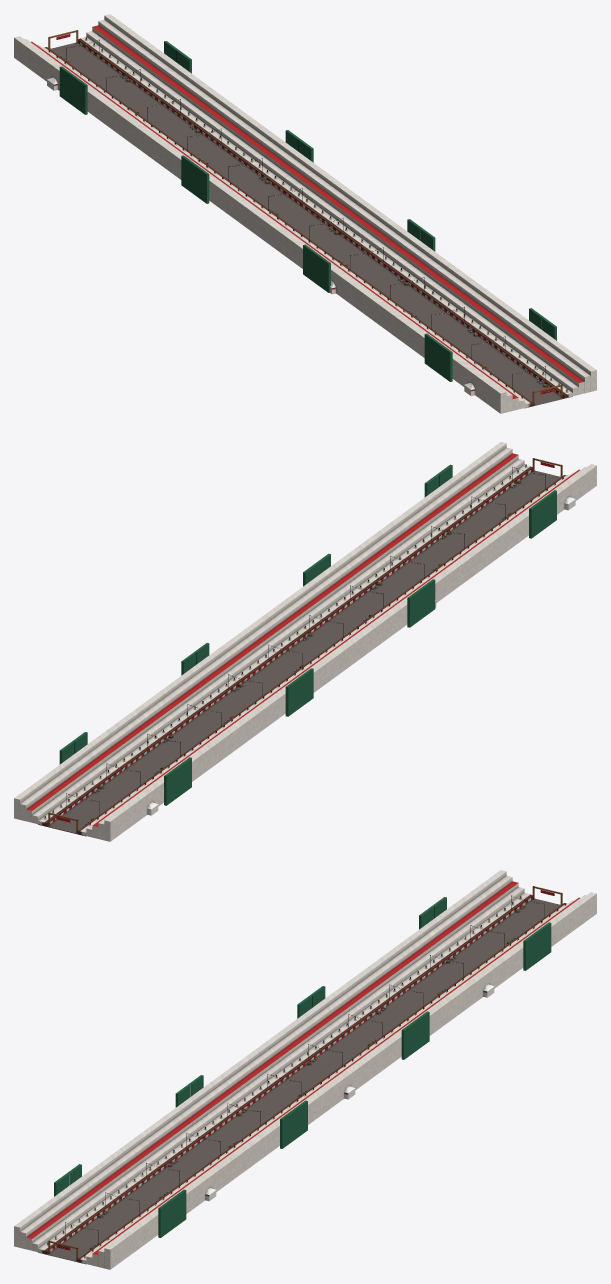
The model's file is plaza_aizkolari.glb.
The picture shows the model from 3 angles, top to bottom: view 1: azimuth 30°, elevation 25°; view 2: azimuth 150°, elevation 25°; view 3: azimuth 330°, elevation 25°; orthographic projection.
Parts seen in each view (by area): view 1: plaza_aizkolari; view 2: plaza_aizkolari; view 3: plaza_aizkolari.
Part boxes in pixels (left/top/right/bottom): plaza_aizkolari: left=14, top=14, right=596, bottom=413; plaza_aizkolari: left=14, top=442, right=596, bottom=841; plaza_aizkolari: left=14, top=870, right=596, bottom=1269.
Size of the model in its own units: 53.2 by 14.2 by 420.
Materials: 1 (1 with a texture image).
